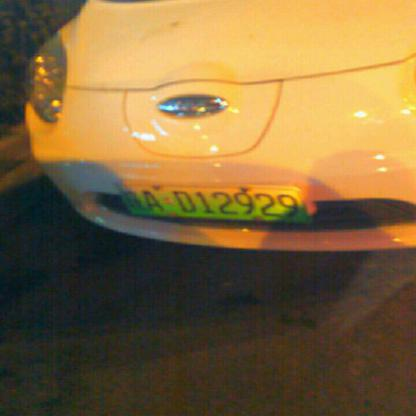lp: (116, 183, 312, 223)
